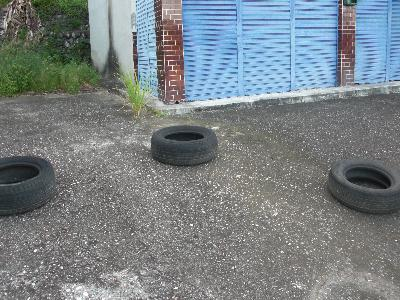tire: (327, 158, 400, 215), (1, 155, 57, 216), (151, 125, 219, 166)
